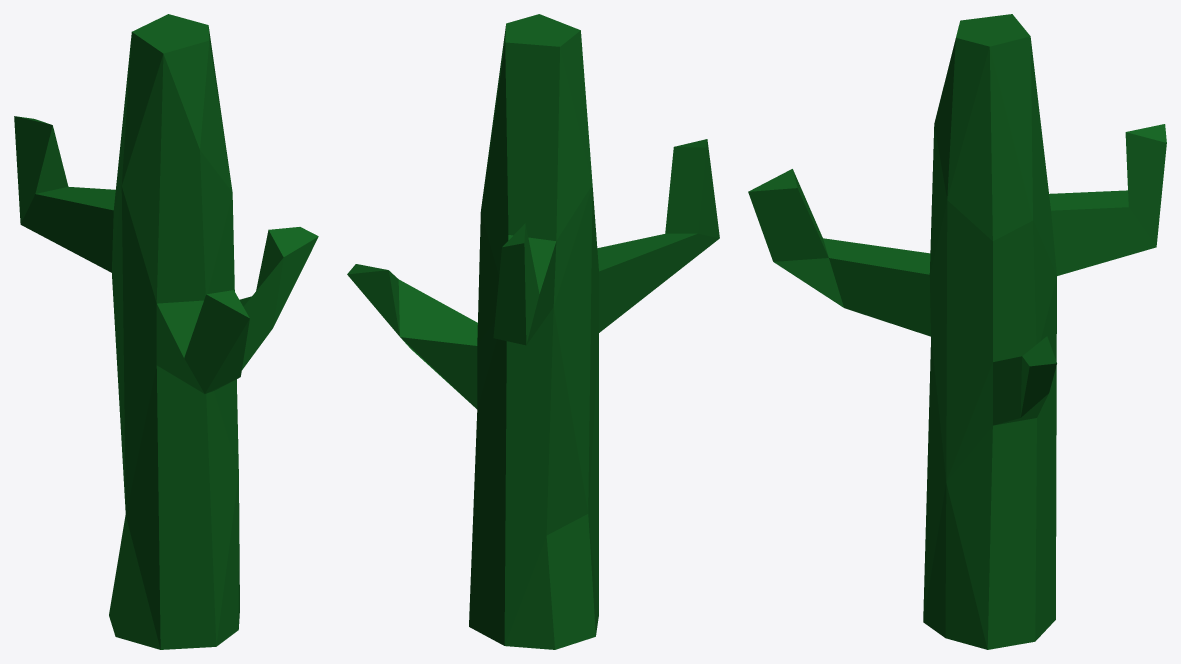
File: Cactus.fbx
3 views of the same model, side by side, from view 1: azimuth 30°, elevation 25°; view 2: azimuth 150°, elevation 25°; view 3: azimuth 270°, elevation 25° (orthographic).
Parts seen in each view (by area): view 1: Cactus; view 2: Cactus; view 3: Cactus.
Boxes of the visible parts, x1,y1,x2,y2 form: Cactus: (14,14,318,649); Cactus: (347,14,719,649); Cactus: (748,14,1166,649).
Bounding box in the file's own units: 41.33 × 97.8 × 62.97.
